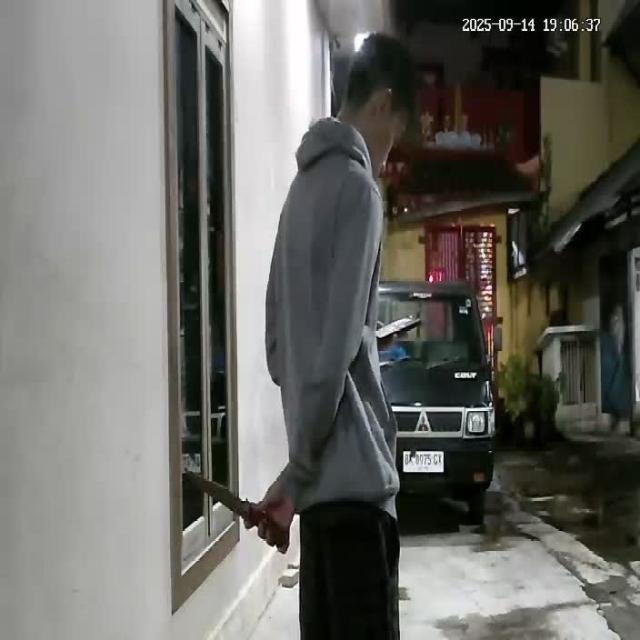senjata_tajam: (186, 468, 254, 527)
